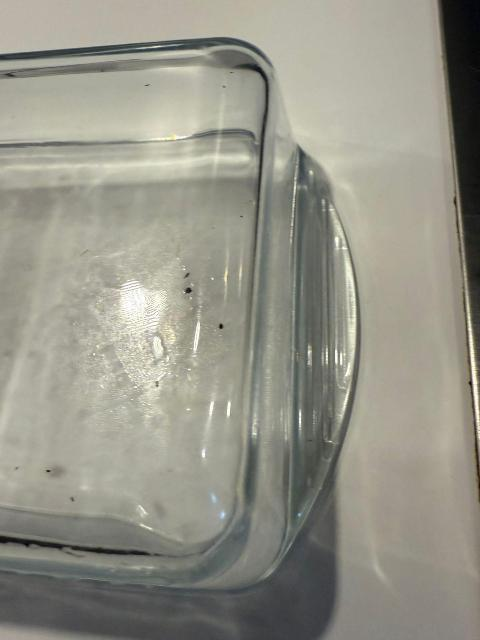Cam: (0, 24, 355, 640), (1, 475, 337, 640)
